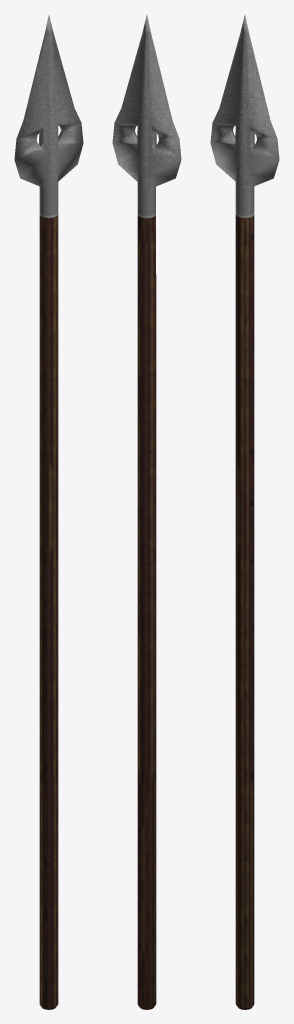
The model's file is CelticSpear02.obj.
3 views of the same model, side by side, from view 1: azimuth 30°, elevation 25°; view 2: azimuth 150°, elevation 25°; view 3: azimuth 330°, elevation 25° (orthographic).
Parts seen in each view (by area): view 1: Spear02_Wood, Spear02_Metal; view 2: Spear02_Wood, Spear02_Metal; view 3: Spear02_Wood, Spear02_Metal.
Part boxes in pixels (bbox=[...]): Spear02_Wood: bbox=[39, 185, 58, 1009]; Spear02_Metal: bbox=[14, 15, 83, 188]; Spear02_Wood: bbox=[137, 186, 156, 1009]; Spear02_Metal: bbox=[112, 15, 181, 188]; Spear02_Wood: bbox=[235, 185, 254, 1009]; Spear02_Metal: bbox=[210, 15, 279, 188].
Bounding box in the file's own units: 0.1846 × 2.54 × 0.0431.
Materials: 2 (2 with a texture image).
